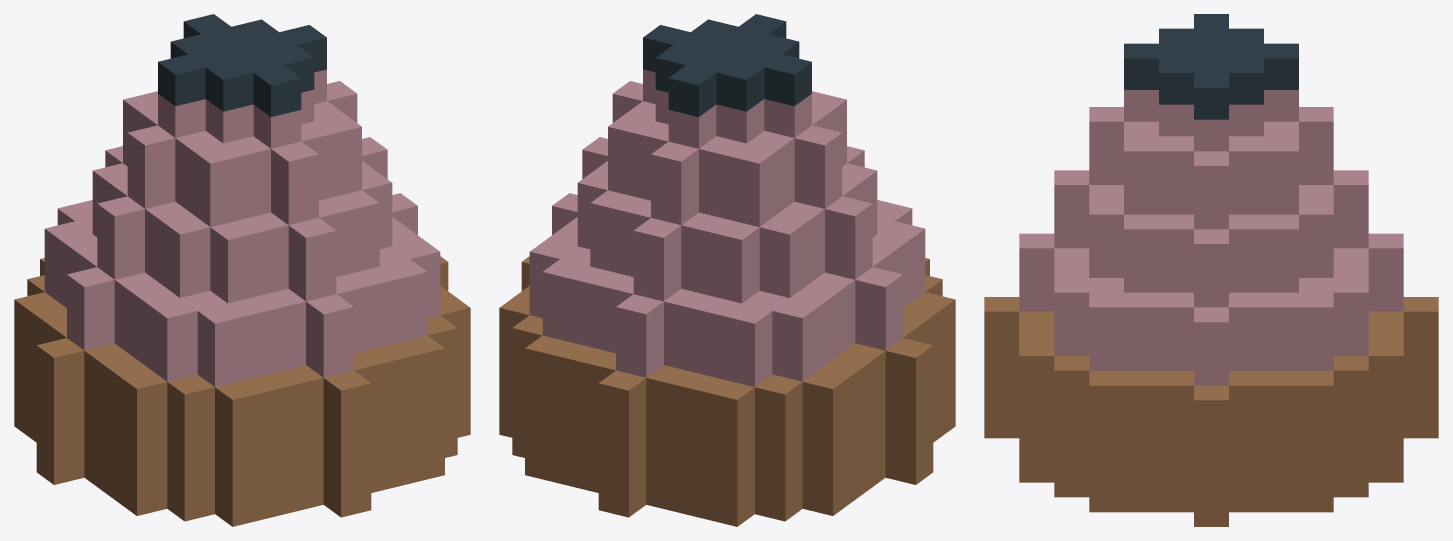
Rendered from beauty-12.glb.
The picture shows the model from 3 angles, left to right: view 1: azimuth 30°, elevation 25°; view 2: azimuth 150°, elevation 25°; view 3: azimuth 270°, elevation 25°; orthographic projection.
Visible parts, largest first — view 1: Aroma diffuser; view 2: Aroma diffuser; view 3: Aroma diffuser.
Part boxes in pixels (x1,y1,x2,y2): Aroma diffuser: (14,14,470,526); Aroma diffuser: (499,14,955,526); Aroma diffuser: (984,14,1438,526).
Bounding box in the file's own units: 1.04 × 0.96 × 1.04.
